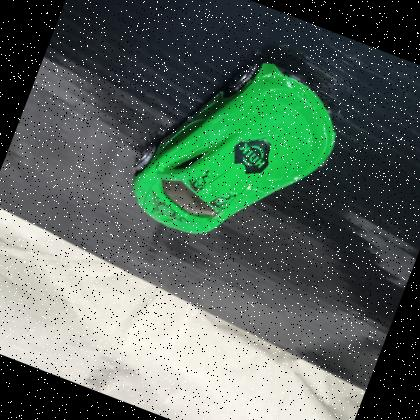Car: (112, 20, 366, 284)
